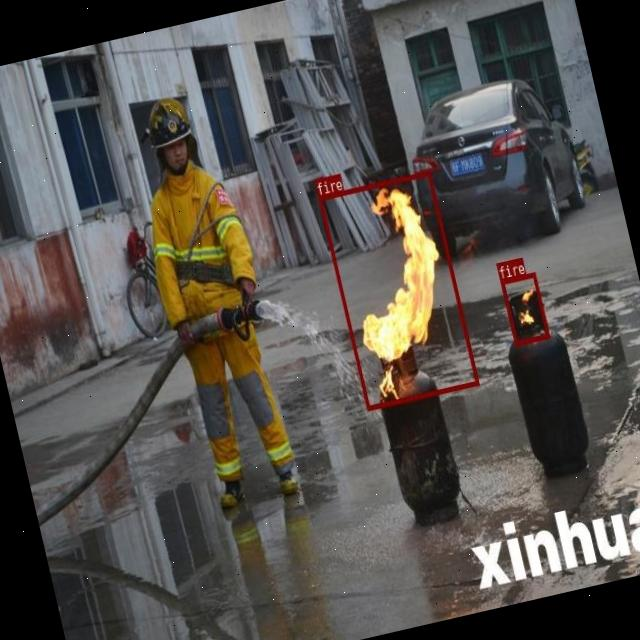fire: (317, 170, 478, 409), (500, 272, 550, 344)
